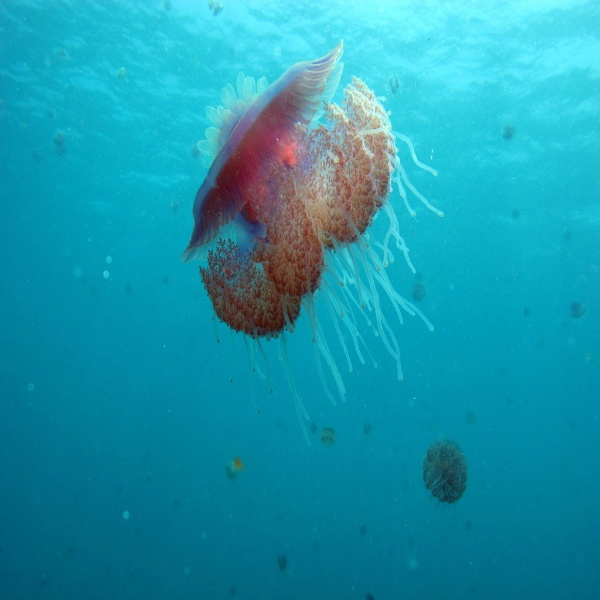Jellyfish: (179, 38, 444, 448)
